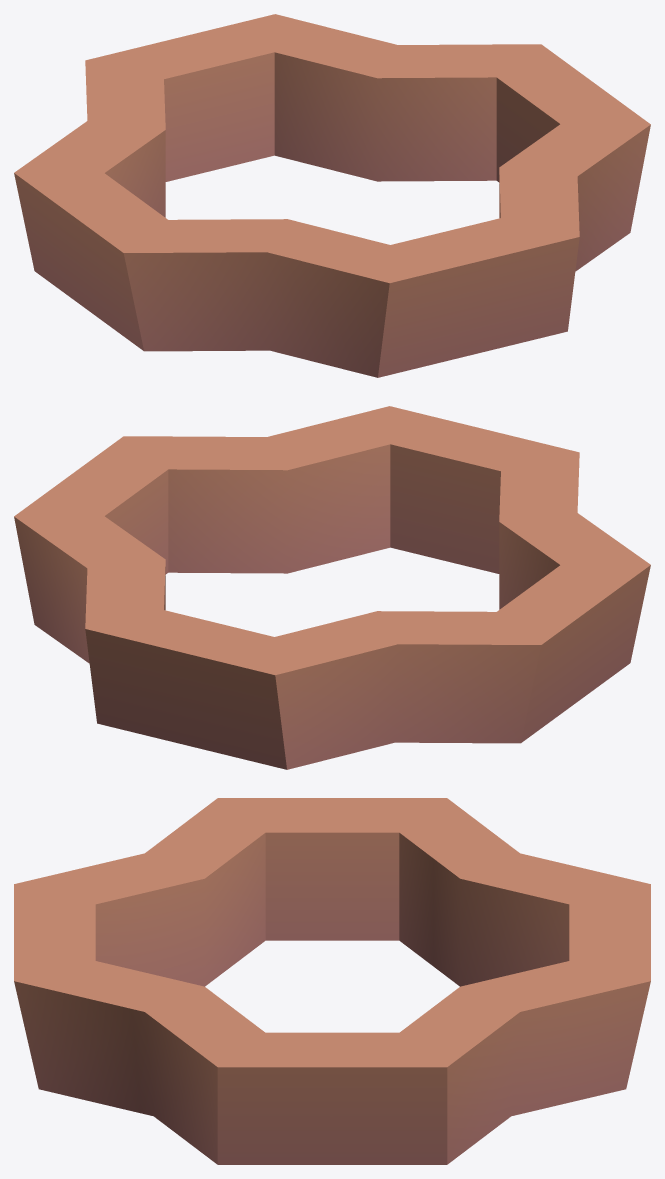
File: paprika-slice.glb
3 renders of one model, top to bottom at view 1: azimuth 30°, elevation 25°; view 2: azimuth 150°, elevation 25°; view 3: azimuth 270°, elevation 25°, orthographic. The views are drawn at different scales.
Parts seen in each view (by area): view 1: paprika-slice; view 2: paprika-slice; view 3: paprika-slice.
Part boxes in pixels (x1=…): paprika-slice: x1=14, y1=14, x2=650, y2=377; paprika-slice: x1=14, y1=406, x2=650, y2=769; paprika-slice: x1=14, y1=798, x2=650, y2=1164.
Size of the model in its own units: 0.1602 by 0.03 by 0.1602.
